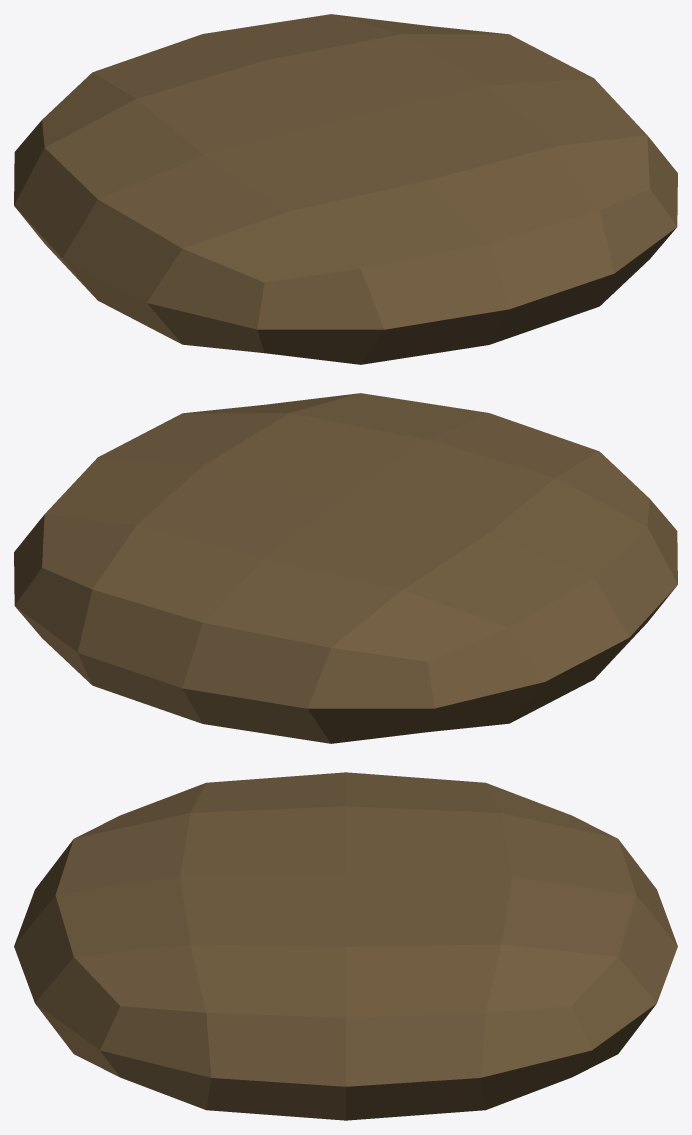
The model's file is BurgerPatty_Cooked.glb.
The picture shows the model from 3 angles, top to bottom: view 1: azimuth 30°, elevation 25°; view 2: azimuth 150°, elevation 25°; view 3: azimuth 270°, elevation 25°; orthographic projection.
Visible parts, largest first — view 1: BurgerPatty_Cooked; view 2: BurgerPatty_Cooked; view 3: BurgerPatty_Cooked.
Boxes of the visible parts, x1=… form: BurgerPatty_Cooked: x1=14, y1=14, x2=677, y2=364; BurgerPatty_Cooked: x1=14, y1=393, x2=677, y2=743; BurgerPatty_Cooked: x1=14, y1=772, x2=677, y2=1120.
Size of the model in its own units: 1.43 by 0.3364 by 1.43.
